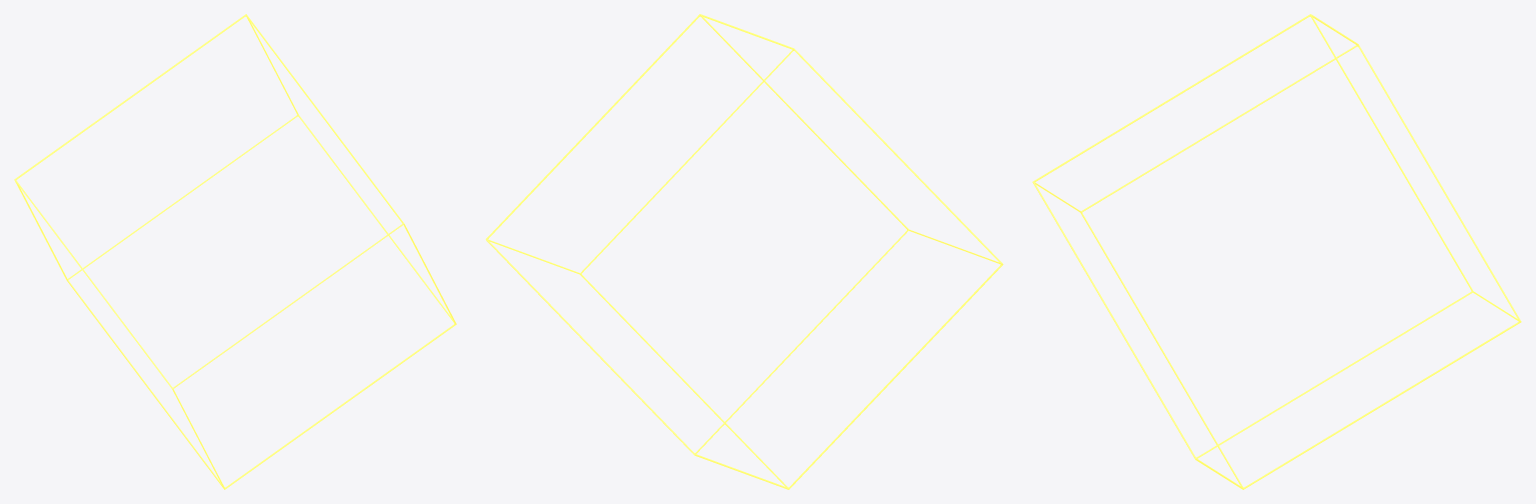
The picture shows the model from 3 angles, left to right: view 1: azimuth 30°, elevation 25°; view 2: azimuth 150°, elevation 25°; view 3: azimuth 270°, elevation 25°; orthographic projection. The views are drawn at different scales.
Visible parts, largest first — view 1: Cube; view 2: Cube; view 3: Cube.
Part boxes in pixels (<box>): Cube: <box>14,14,456,489</box>; Cube: <box>485,14,1003,489</box>; Cube: <box>1032,14,1521,489</box>.
Bounding box in the file's own units: 2.99 × 3.4 × 2.99.
